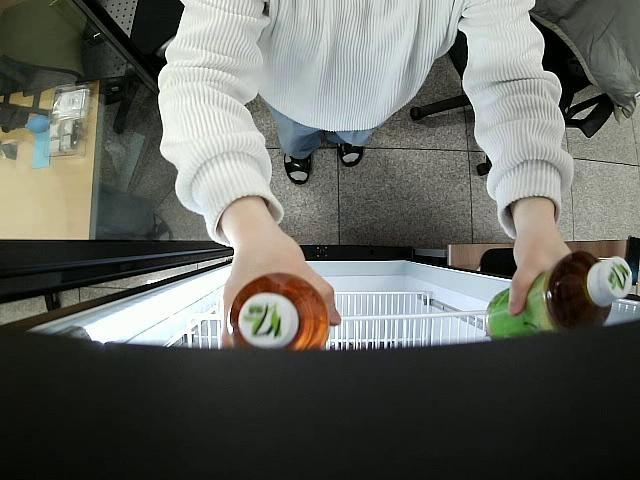19_17cha: (485, 250, 630, 339), (230, 272, 330, 350)
